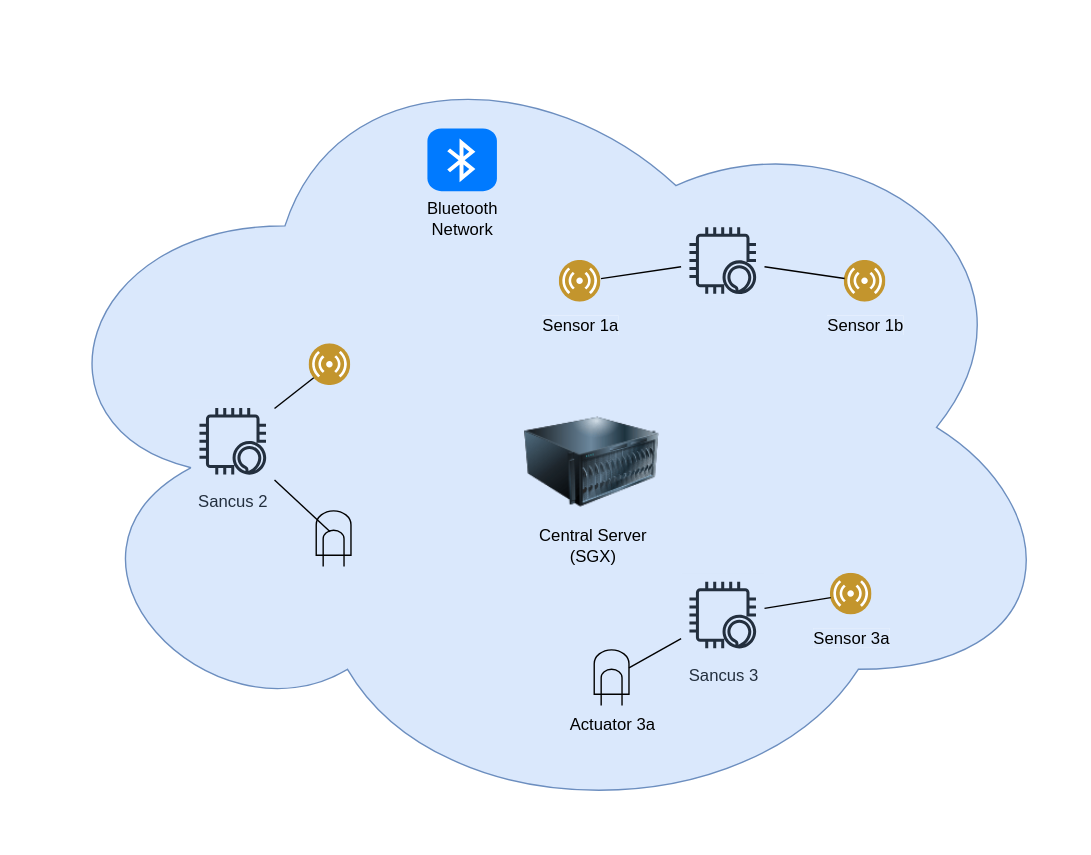
Image size: 1091x855. Some labels were removed from this diagram. The shapes that lost their labels are listed below. From the top down, each one's box as (x1, y1, x2, y2) in pixels, then its label:
(680, 218, 764, 302): Sancus 1
(309, 343, 350, 385): Sensor 2a
(315, 509, 351, 566): Actuator 2a
